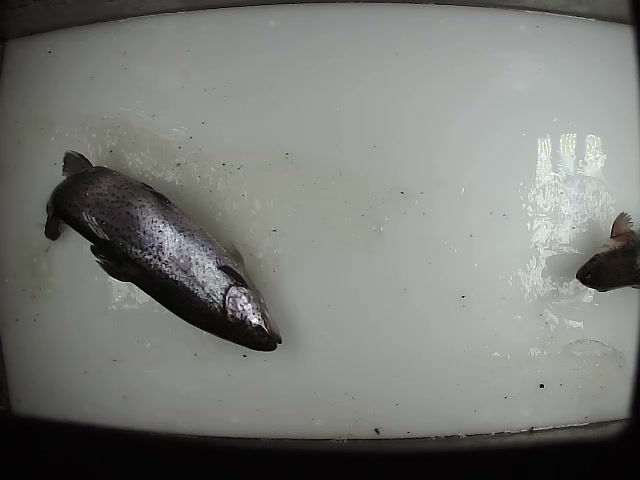fish: (39, 148, 283, 355)
